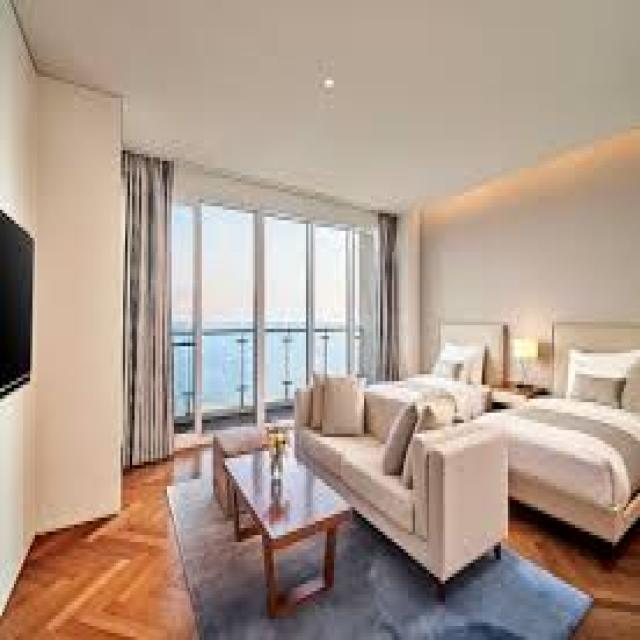Sofa: (295, 373, 511, 578)
Table: (223, 444, 354, 612)
tv: (1, 207, 34, 396)
window: (164, 199, 376, 397)
